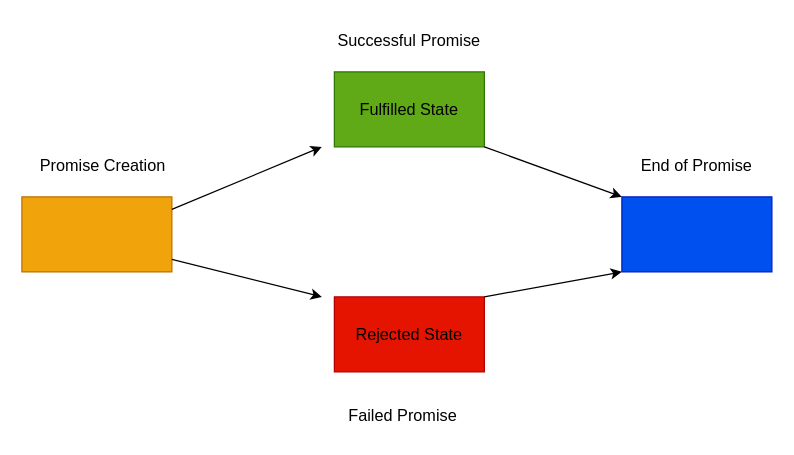
The diagram is 794 pixels wide and 455 high, and some of its shapes have lost their labels. Each missing label, with the centre of its shape:
Pending State: the point at 96,234
Settled State: the point at 696,234
